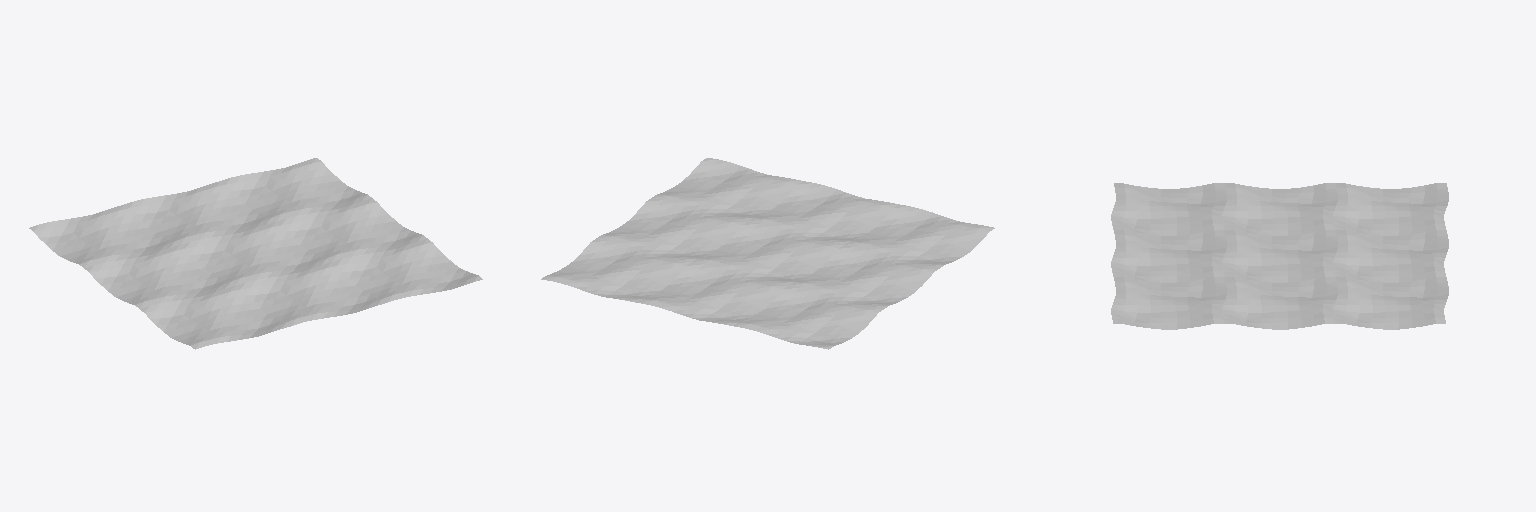
The model's file is ocean_000075.obj.
The picture shows the model from 3 angles: view 1: azimuth 30°, elevation 25°; view 2: azimuth 150°, elevation 25°; view 3: azimuth 270°, elevation 25°; orthographic projection.
Visible parts, largest first — view 1: Ocean_Plan.001; view 2: Ocean_Plan.001; view 3: Ocean_Plan.001.
Boxes of the visible parts, x1=… form: Ocean_Plan.001: x1=29, y1=158, x2=482, y2=349; Ocean_Plan.001: x1=541, y1=158, x2=994, y2=349; Ocean_Plan.001: x1=1111, y1=183, x2=1448, y2=329.
Bounding box in the file's own units: 109242 × 2353 × 110556.